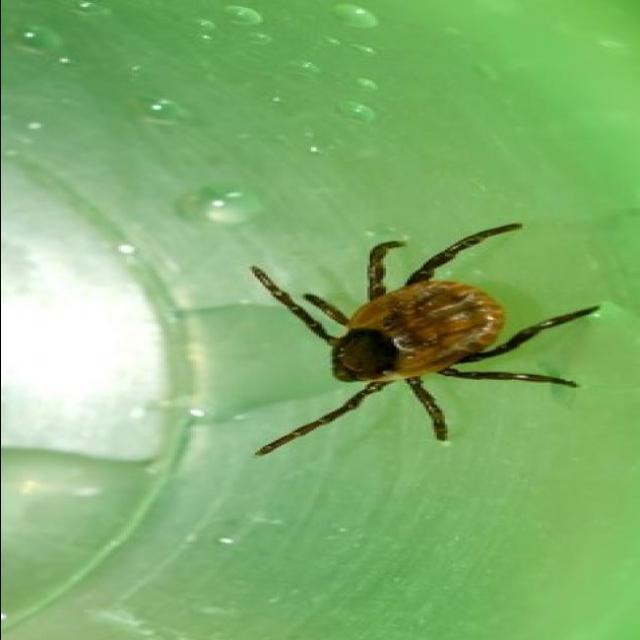Rhipicephalus Sanguineus-F: (251, 225, 599, 455)
